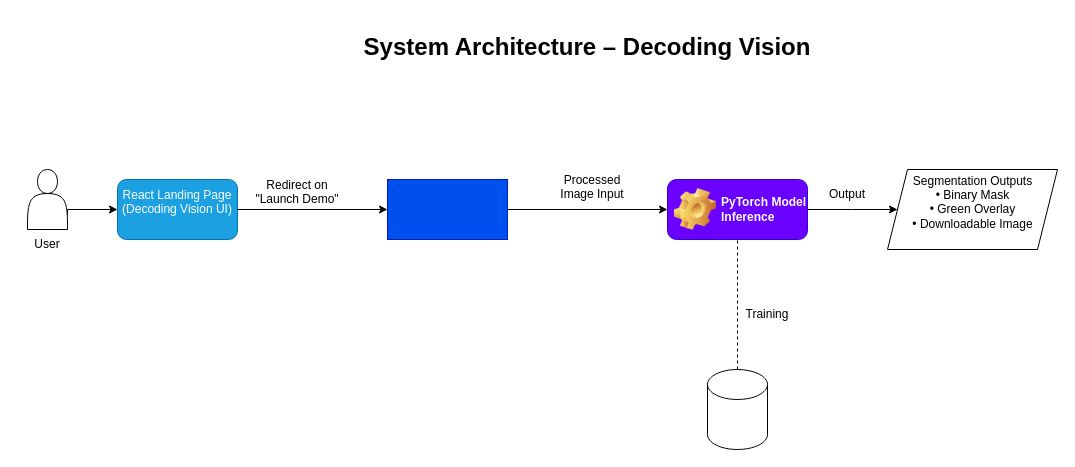
Some shapes in this 1075 by 467 pixel diagram are drawn without their labels. Each missing label, with the centre of its shape:
"Google Colab" goes at (x=737, y=409).
"Gradio Web App (Hugging Face Spaces)" goes at (x=447, y=209).
